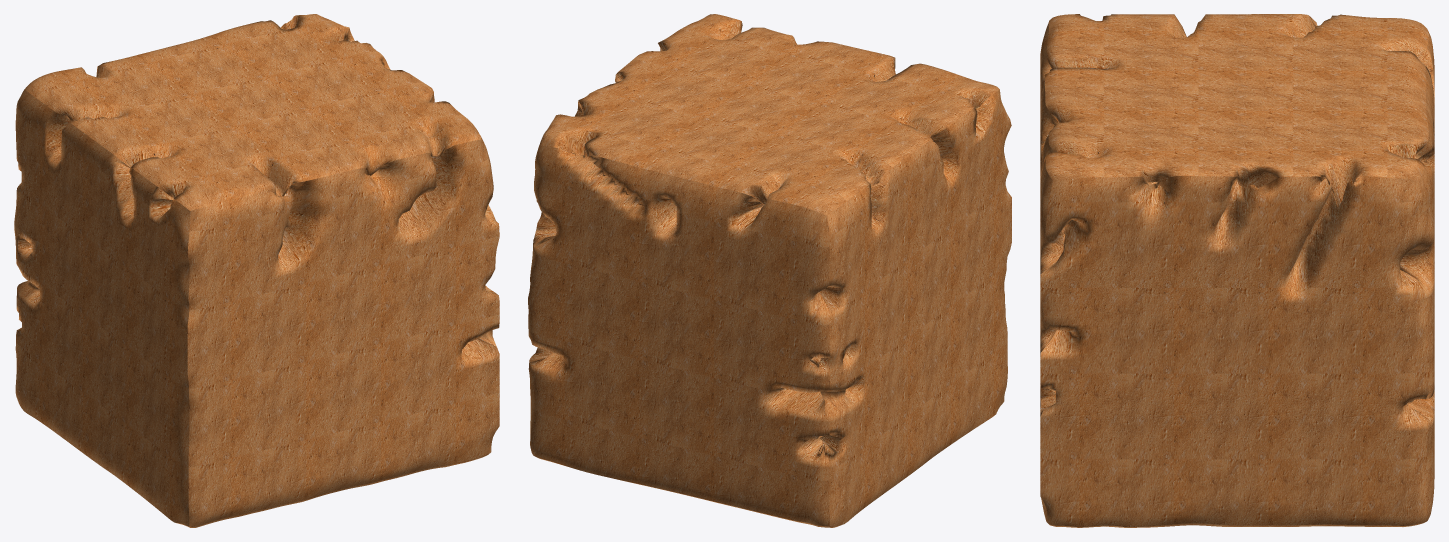
The model's file is Stone 2.fbx.
The picture shows the model from 3 angles, left to right: view 1: azimuth 30°, elevation 25°; view 2: azimuth 150°, elevation 25°; view 3: azimuth 270°, elevation 25°; orthographic projection. The views are drawn at different scales.
Parts seen in each view (by area): view 1: pasted__pCube2; view 2: pasted__pCube2; view 3: pasted__pCube2.
Boxes of the visible parts, x1,y1,x2,y2 form: pasted__pCube2: [14, 14, 499, 527]; pasted__pCube2: [528, 14, 1011, 527]; pasted__pCube2: [1040, 14, 1434, 527].
Bounding box in the file's own units: 4 × 4 × 4.
Materials: 1 (1 with a texture image).
